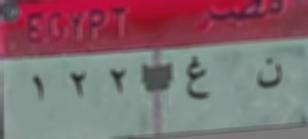2: (105, 64, 134, 100), (28, 68, 53, 106), (65, 66, 91, 100)
ghayn: (180, 50, 211, 105)
noon: (254, 52, 287, 96)
